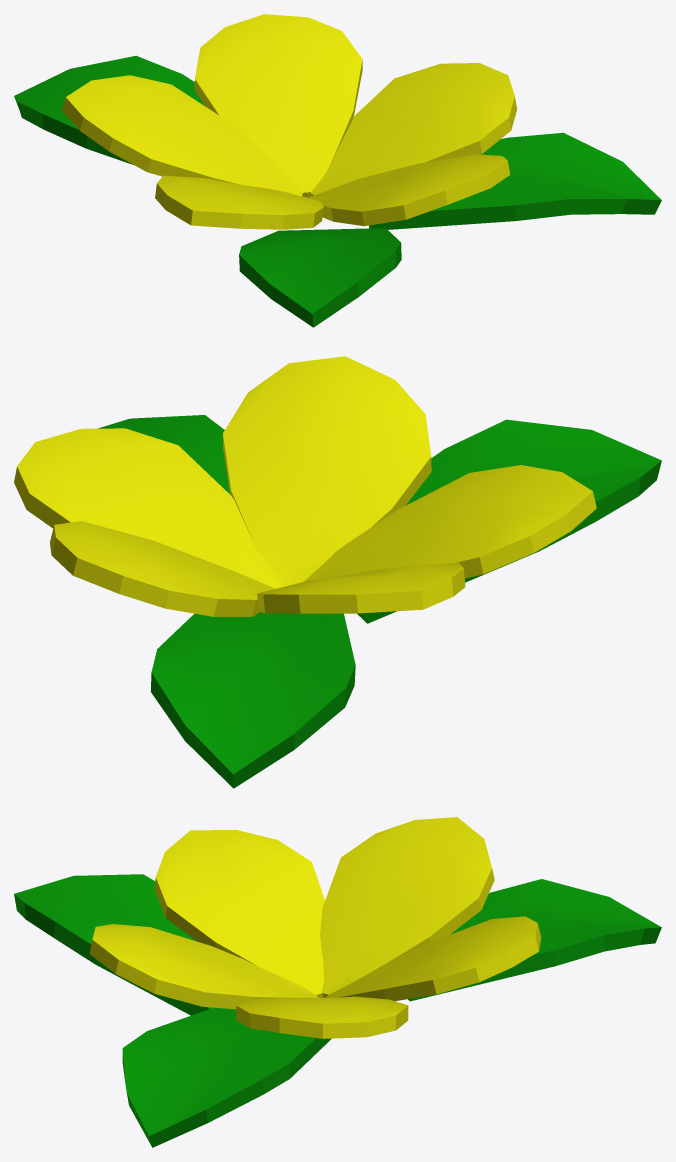
File: Flowers_v2_001.fbx
The picture shows the model from 3 angles, top to bottom: view 1: azimuth 30°, elevation 25°; view 2: azimuth 150°, elevation 25°; view 3: azimuth 270°, elevation 25°; orthographic projection. The views are drawn at different scales.
Visible parts, largest first — view 1: Flowers_v2_001; view 2: Flowers_v2_001; view 3: Flowers_v2_001.
Part boxes in pixels (x1,y1,x2,y2): Flowers_v2_001: (14,14,661,327); Flowers_v2_001: (14,356,661,788); Flowers_v2_001: (14,817,661,1147).
Size of the model in its own units: 15.49 by 3.92 by 18.98.
